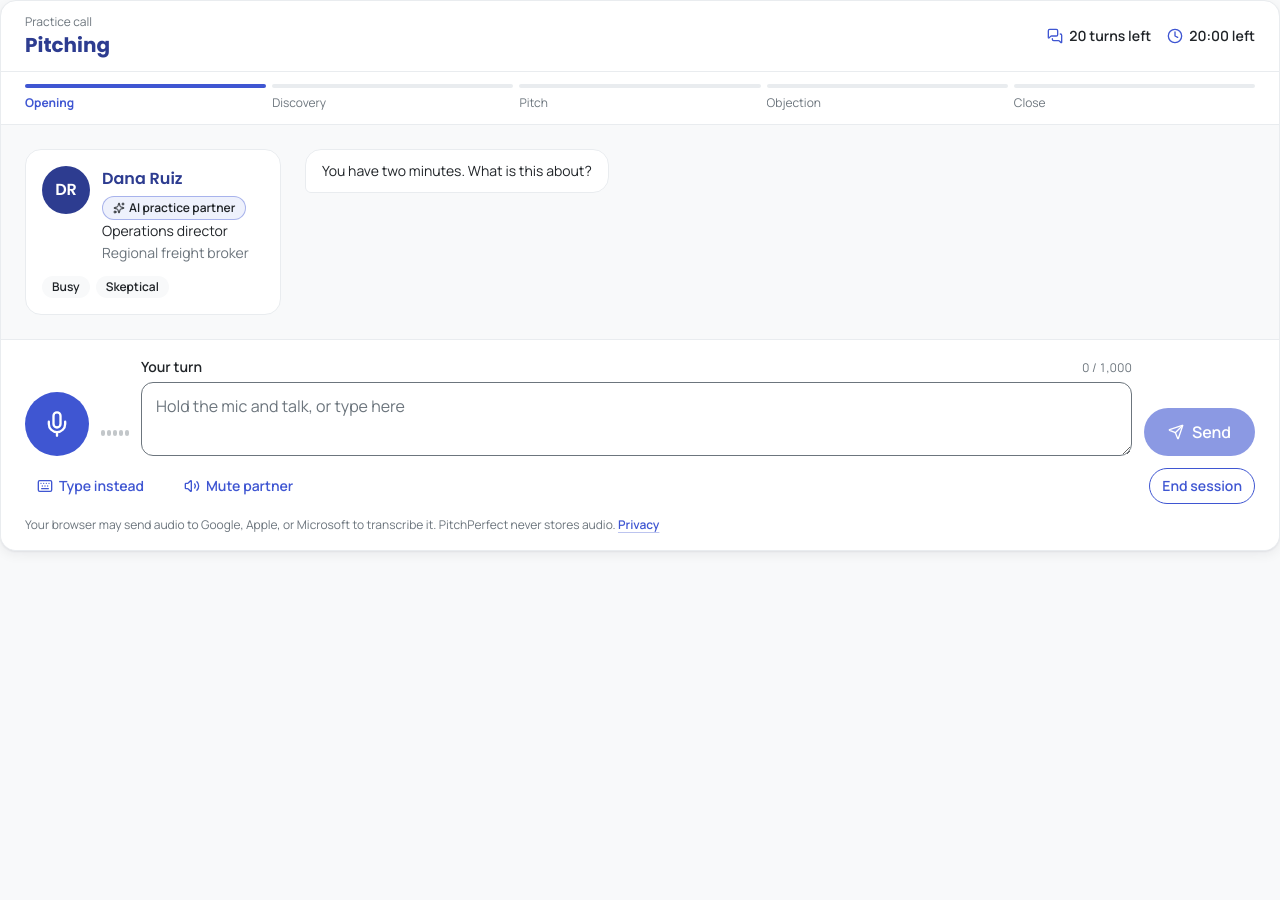
it: PracticeRoom › says when a scoring retry has to wait for today's allowance to reset
The width and height of the screenshot is (1280, 900).
Click the button "End session" at (1202, 486), box [1149,468,1255,504]
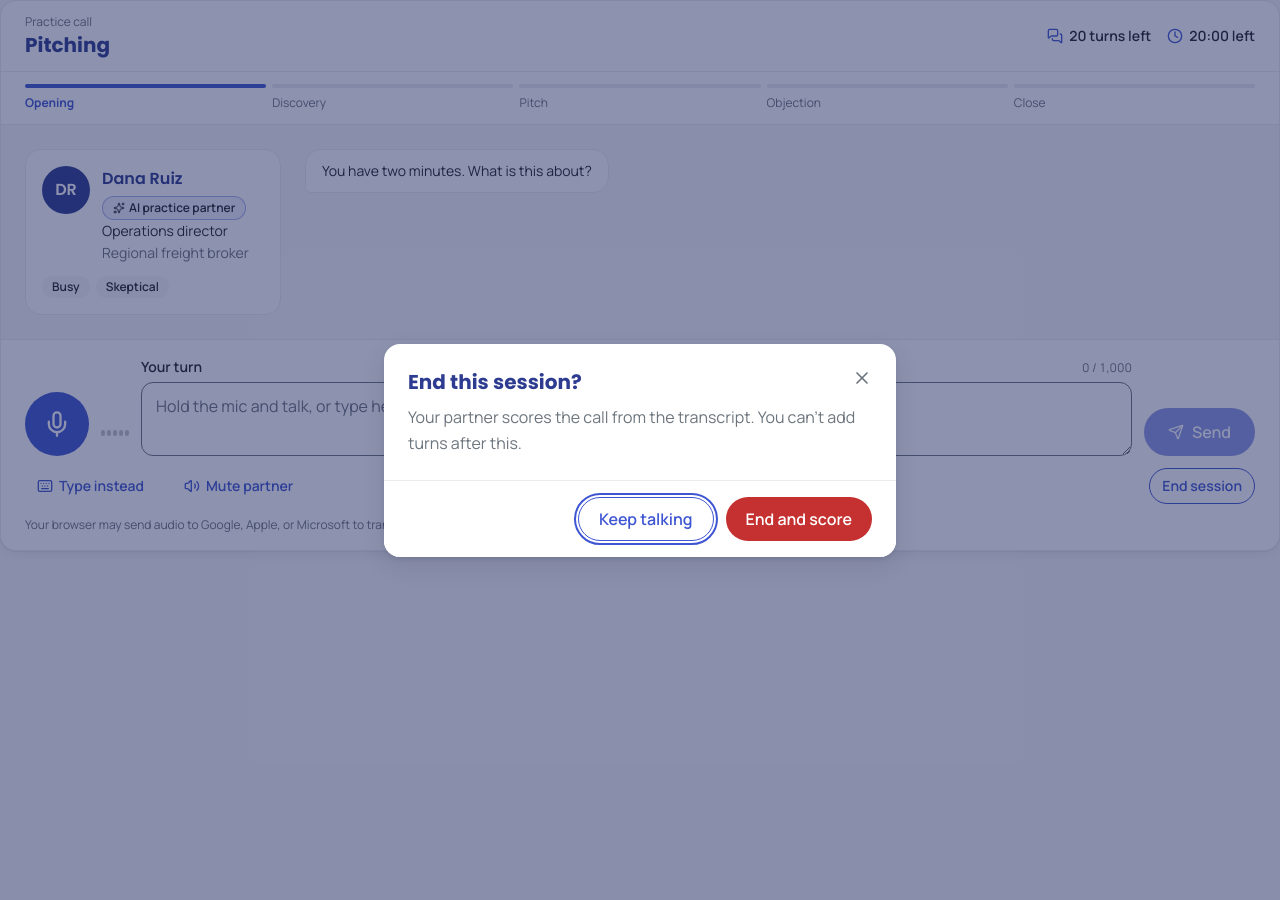
Click the button "End and score" at (799, 518), box [726,496,872,540]
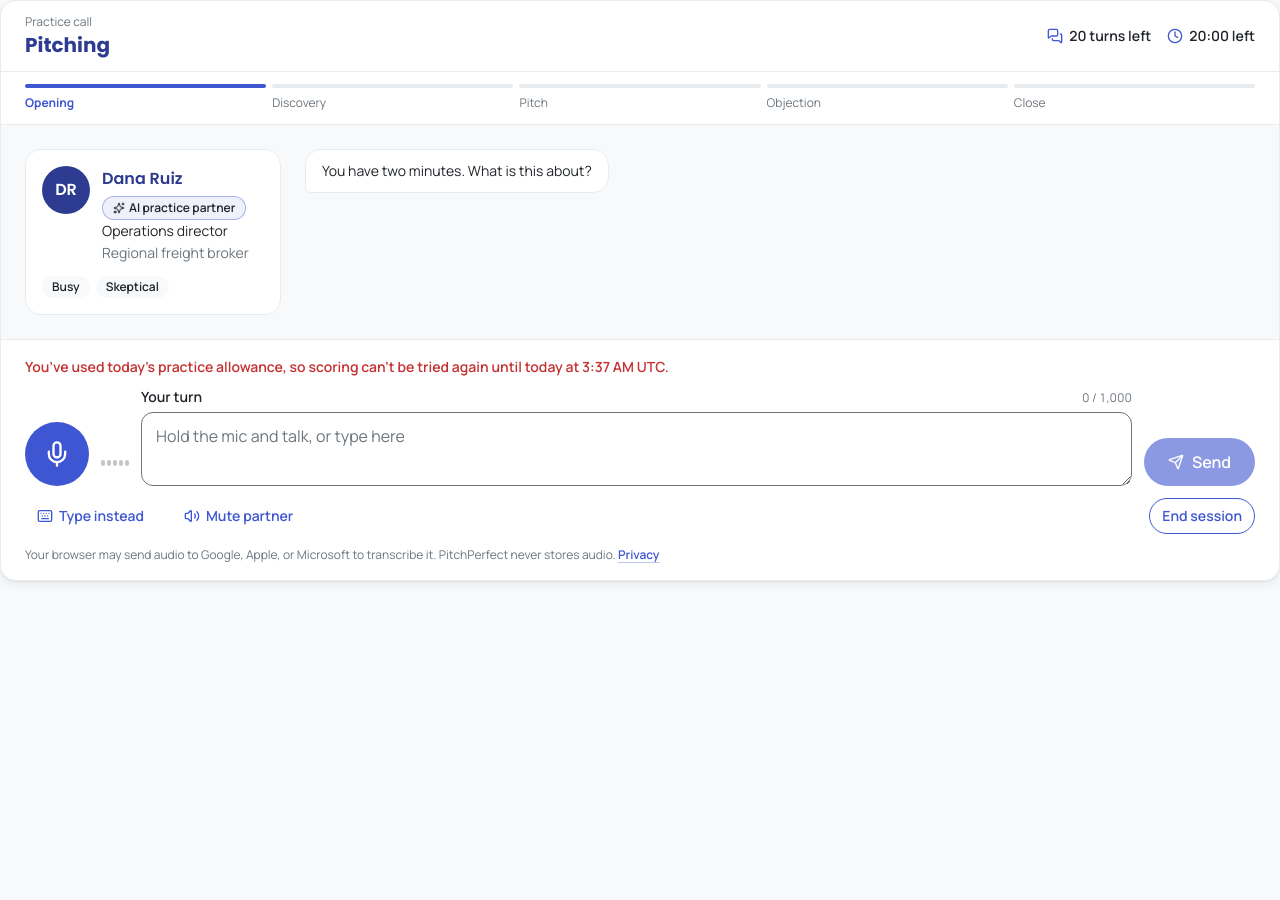
Expected: the message shows "You’ve used today’s practice allowance, so scoring can’t be tried again until", [25,357,669,376]
